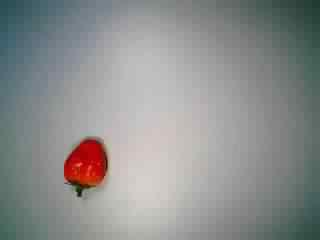strawberry: (51, 134, 119, 198)
